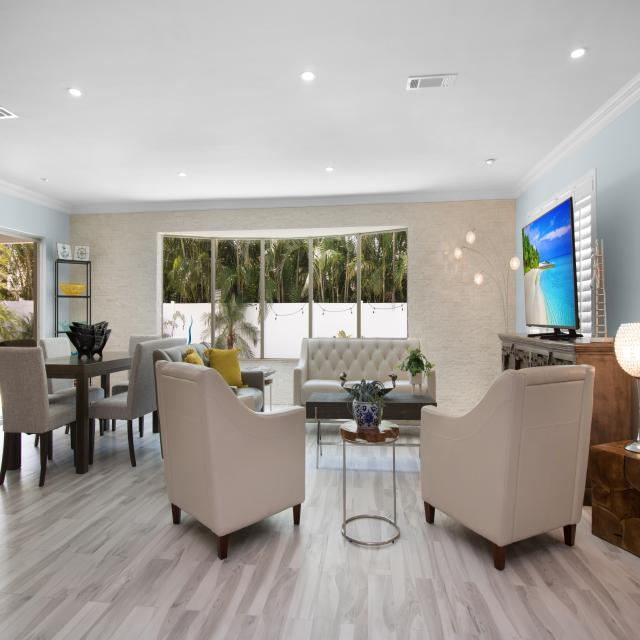floor: (0, 412, 640, 640), (346, 445, 394, 522), (346, 518, 398, 542), (395, 425, 421, 444), (320, 423, 343, 443)
wall: (70, 199, 516, 415), (515, 100, 640, 340), (0, 192, 71, 338), (238, 359, 300, 405), (69, 263, 87, 296), (508, 265, 516, 333), (110, 370, 128, 397), (70, 298, 87, 323), (58, 297, 70, 331), (58, 263, 70, 295), (91, 376, 101, 388), (88, 378, 90, 387)
